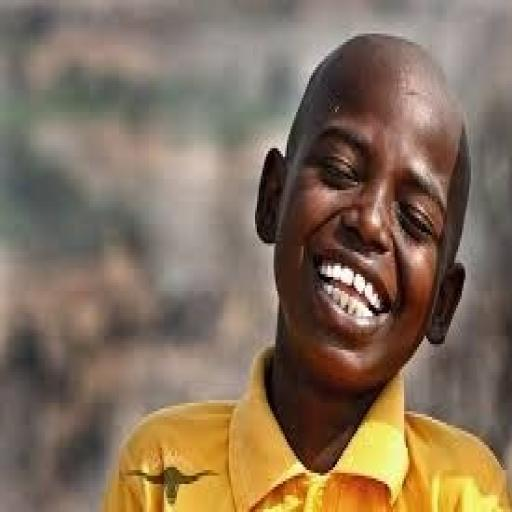laughing: (97, 25, 510, 509)
